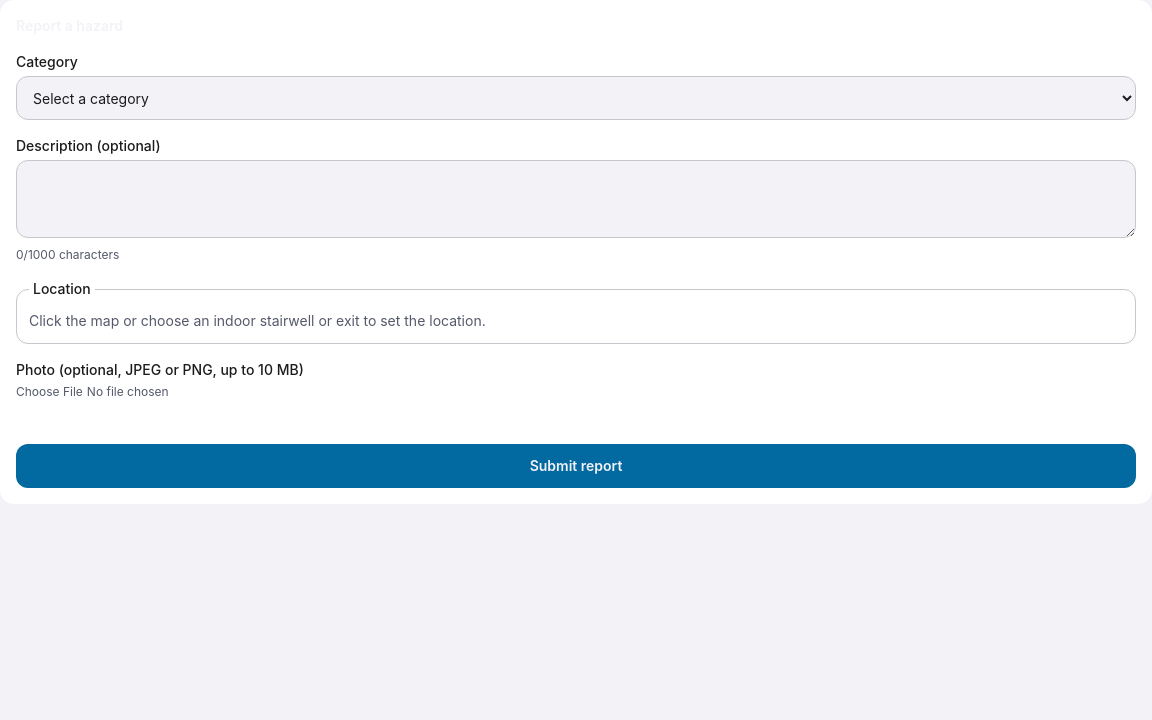
ReportForm › offers all 9 categories and a 1000-char counter
Type "abc" into the text box labelled "Description (optional)" at (576, 199), box [16,160,1136,238]
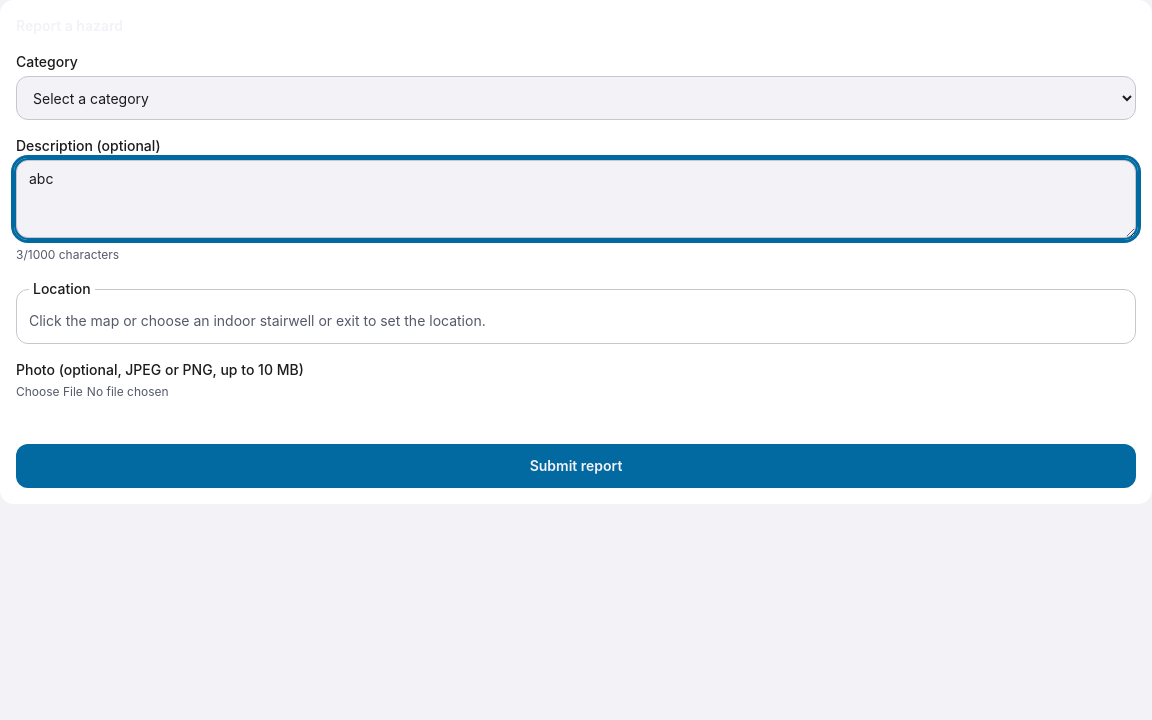
Expected: the text "3/1000 characters" is shown, [16,247,119,262]
